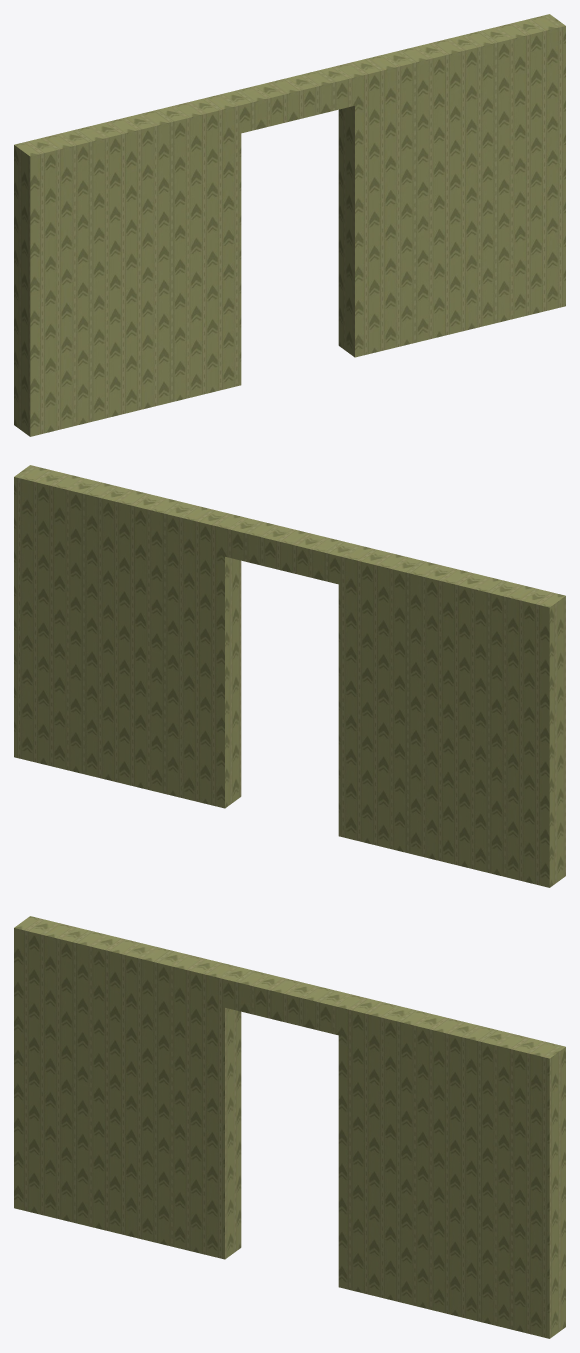
Rendered from BaseTexturedWallWithDoorframe.glb.
3 views of the same model, one above another, from view 1: azimuth 30°, elevation 25°; view 2: azimuth 150°, elevation 25°; view 3: azimuth 330°, elevation 25° (orthographic).
Visible parts, largest first — view 1: wall-col; view 2: wall-col; view 3: wall-col.
Part boxes in pixels (x1,y1,x2,y2): wall-col: [14, 14, 565, 436]; wall-col: [14, 465, 565, 887]; wall-col: [14, 916, 565, 1338].
Size of the model in its own units: 8 by 4 by 0.42.
1 material, 1 textured.
